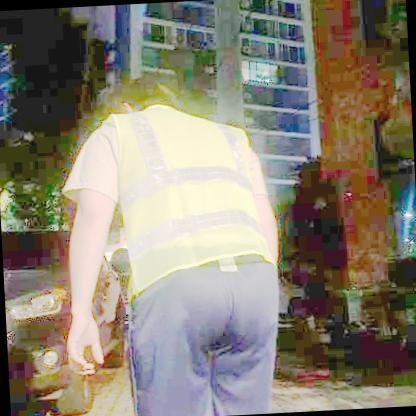vest: (99, 97, 280, 304)
